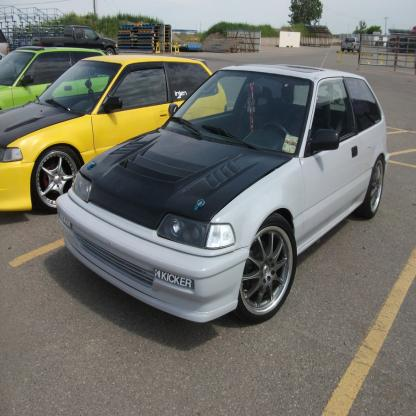Car: (1, 48, 232, 226), (1, 41, 122, 114), (61, 23, 122, 63), (339, 37, 361, 56), (1, 25, 10, 66)
